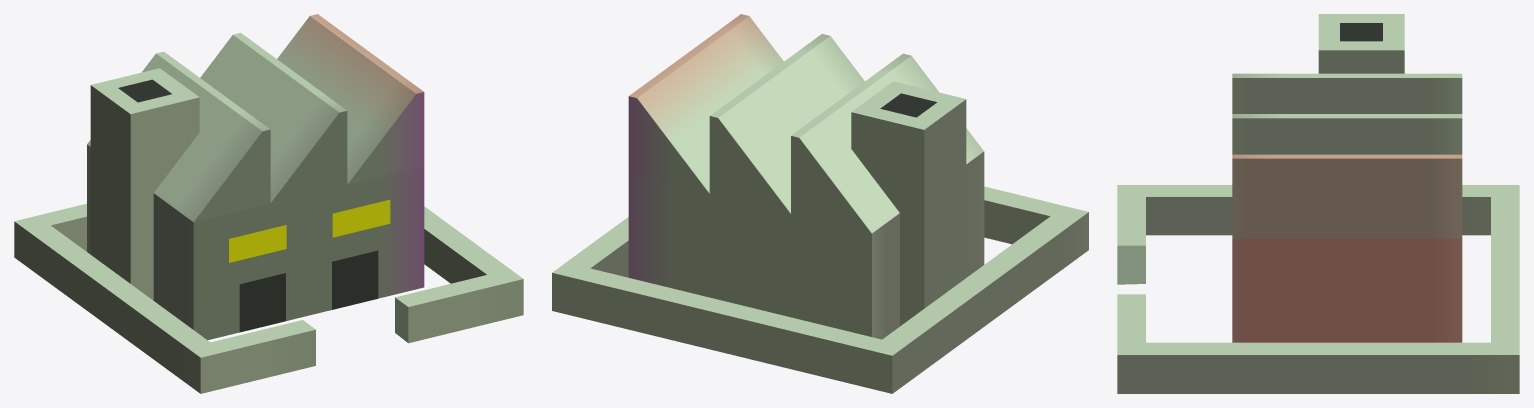
File: Factory.JadeSun.glb
The picture shows the model from 3 angles, left to right: view 1: azimuth 30°, elevation 25°; view 2: azimuth 150°, elevation 25°; view 3: azimuth 270°, elevation 25°; orthographic projection. The views are drawn at different scales.
Parts seen in each view (by area): view 1: Factory.JadeSun; view 2: Factory.JadeSun; view 3: Factory.JadeSun.
Part boxes in pixels (x1,y1,x2,y2): Factory.JadeSun: [14, 14, 523, 393]; Factory.JadeSun: [552, 14, 1088, 393]; Factory.JadeSun: [1117, 14, 1519, 393].
Size of the model in its own units: 2.8 by 1.71 by 2.8.
2 materials, 1 textured.
